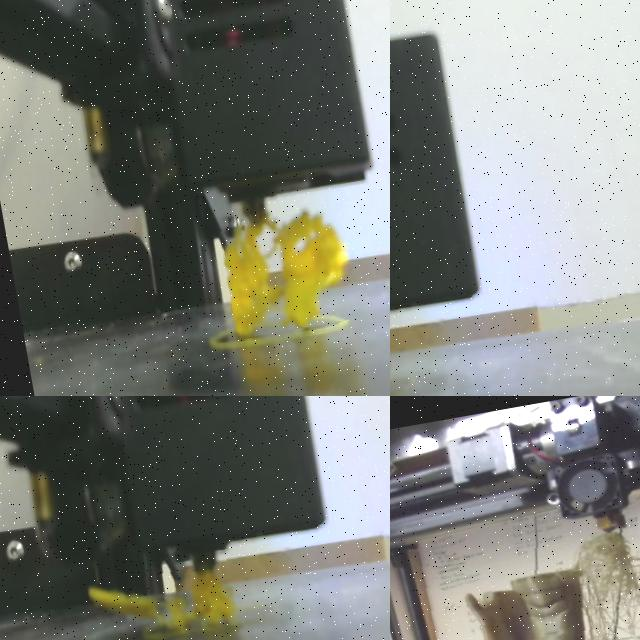spaghetti: (418, 462, 640, 640), (226, 211, 345, 337), (88, 554, 233, 635)
